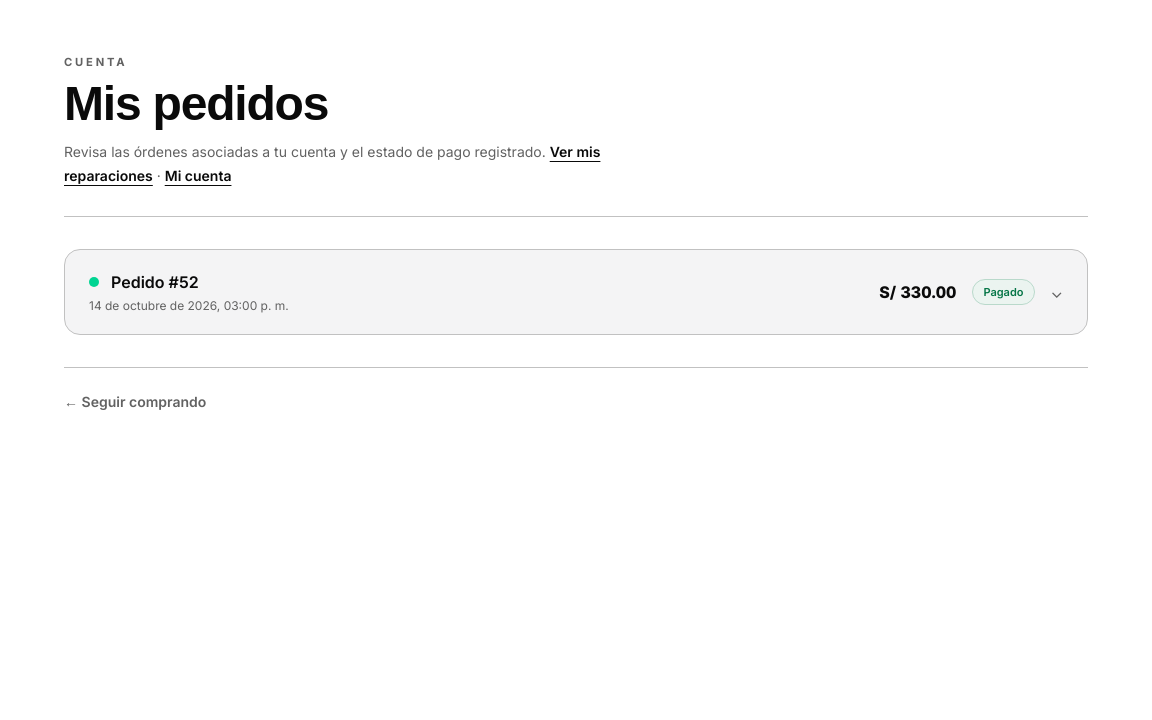
Test: una línea bajo pedido en «Mis pedidos» › dice «Bajo pedido» con su plazo sólo en la línea que trae `lead_time_days`
Click the button "Pedido #52" at (145, 282), box [65, 250, 1087, 334]
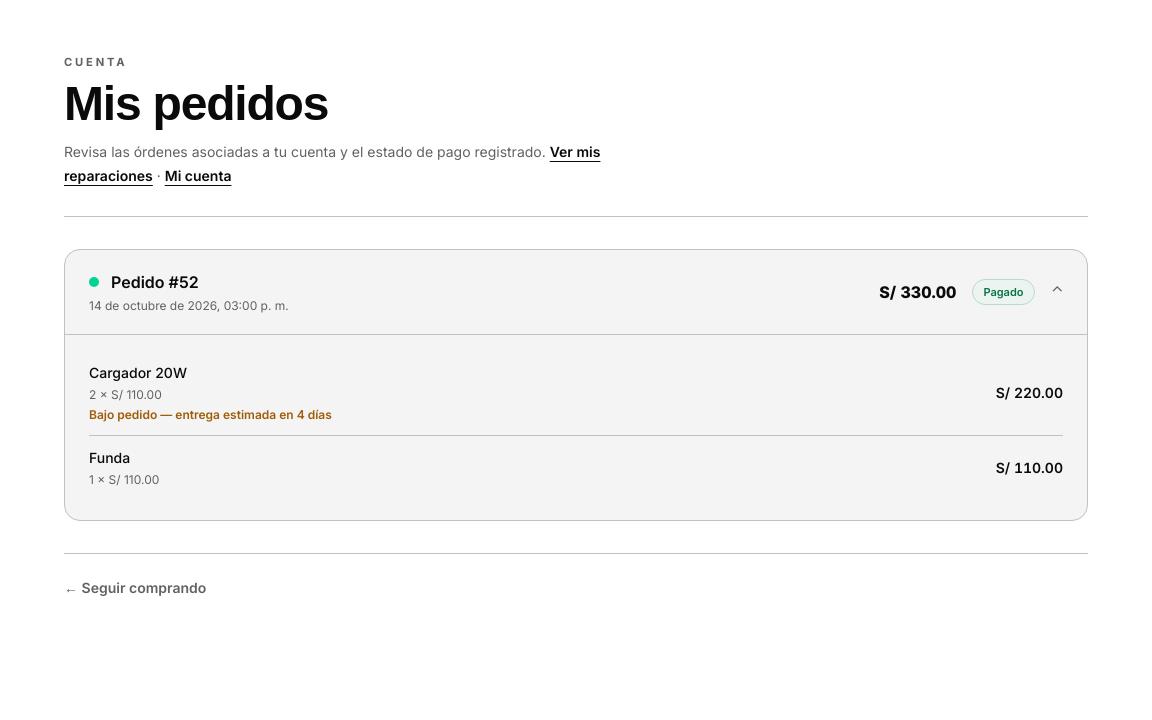
Result: the number of elements with test id "order-item-supply" is 1 at [89, 407, 332, 423]
Result: the element with test id "order-item-supply" shows "Bajo pedido" at [89, 407, 175, 422]
Result: the element with test id "order-item-supply" shows "4" at [175, 407, 332, 422]
